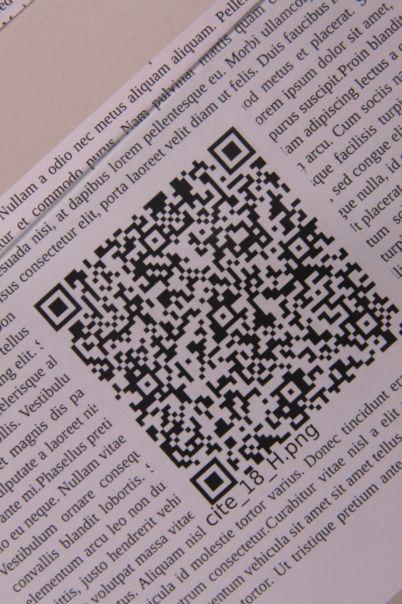Finder pattern: (208, 126, 262, 180), (190, 453, 239, 510), (34, 284, 83, 331)
